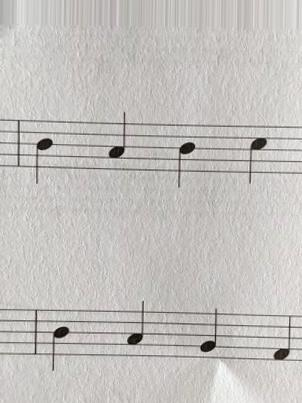note: (47, 305, 76, 377), (30, 116, 57, 192), (244, 121, 273, 188), (173, 123, 199, 191), (105, 110, 131, 178), (125, 296, 150, 363), (271, 312, 297, 373), (197, 308, 221, 367)
